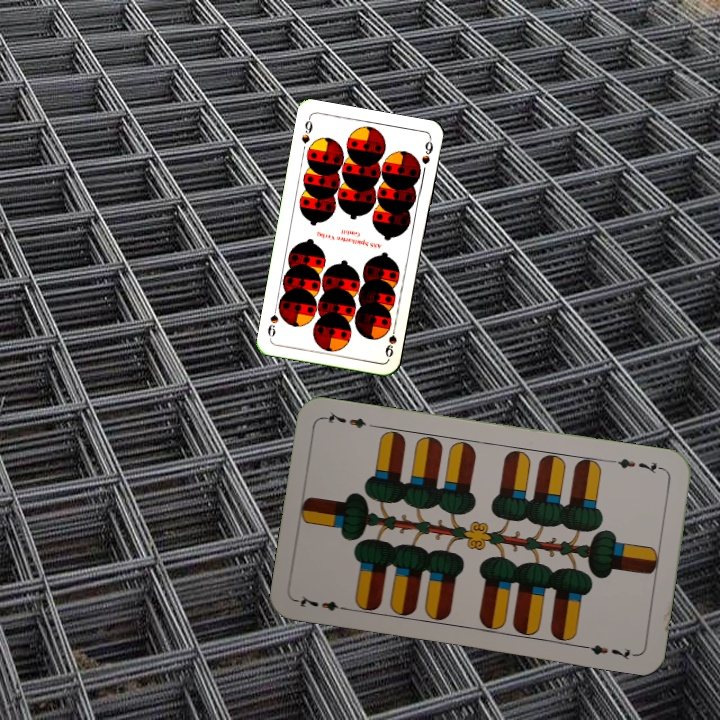E7: (608, 454, 667, 477), (294, 592, 352, 614)
S9: (381, 320, 399, 360), (297, 113, 315, 146)
